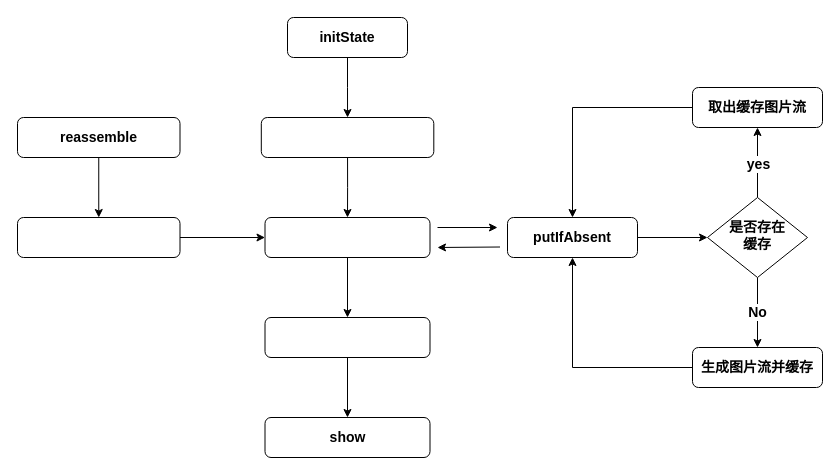
Some shapes in this 840 by 475 pixel diagram are drawn without their labels. The box of each missing label's shape, as (x1, y1, x2, y2) in pixels:
_resolveImage: (264, 216, 430, 258)
build: (264, 316, 430, 358)
didChangeDependencies: (260, 116, 434, 158)
didUpdateWidget: (16, 216, 180, 258)
